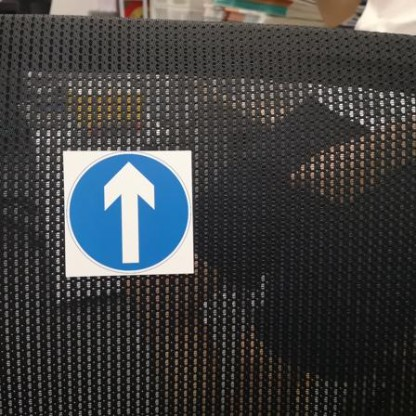forward: (60, 150, 199, 275)
